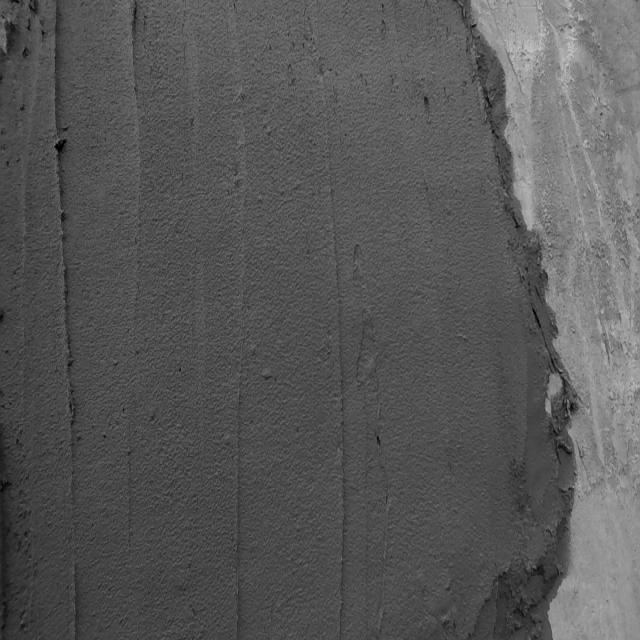trowels marks: (42, 2, 84, 447), (326, 223, 349, 638), (227, 368, 247, 630)
